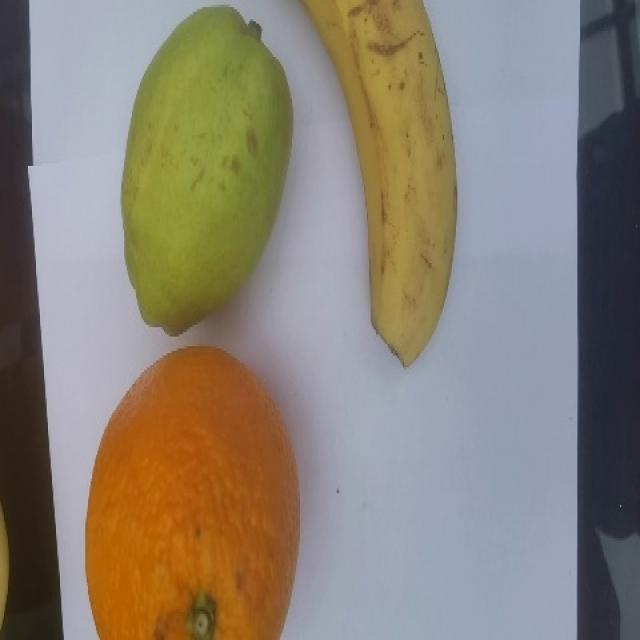Banana: (298, 0, 458, 368)
Orange: (84, 344, 301, 639)
